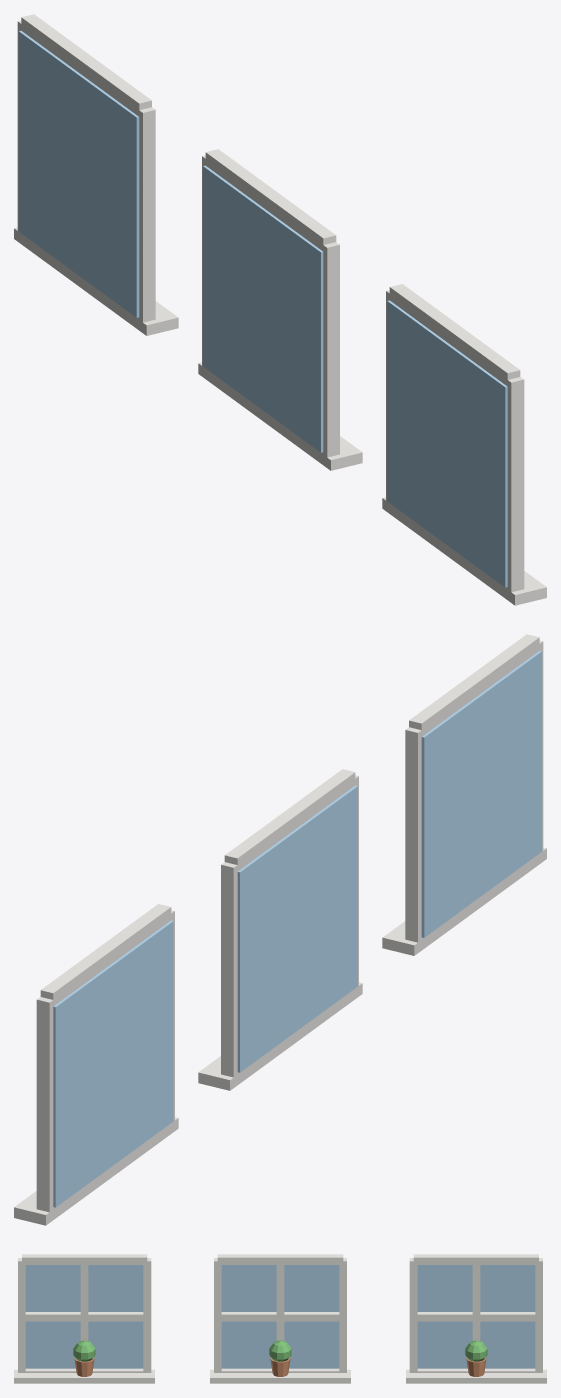
Rendered from classroom_windows.glb.
The picture shows the model from 3 angles, top to bottom: view 1: azimuth 30°, elevation 25°; view 2: azimuth 150°, elevation 25°; view 3: azimuth 270°, elevation 25°; orthographic projection. The views are drawn at different scales.
Visible parts, largest first — view 1: classroom_windows; view 2: classroom_windows; view 3: classroom_windows.
Boxes of the visible parts, bbox=[...] form: classroom_windows: bbox=[14, 14, 546, 605]; classroom_windows: bbox=[14, 634, 546, 1225]; classroom_windows: bbox=[14, 1254, 546, 1383].
Bounding box in the file's own units: 0.3057 × 1.7 × 6.8.
